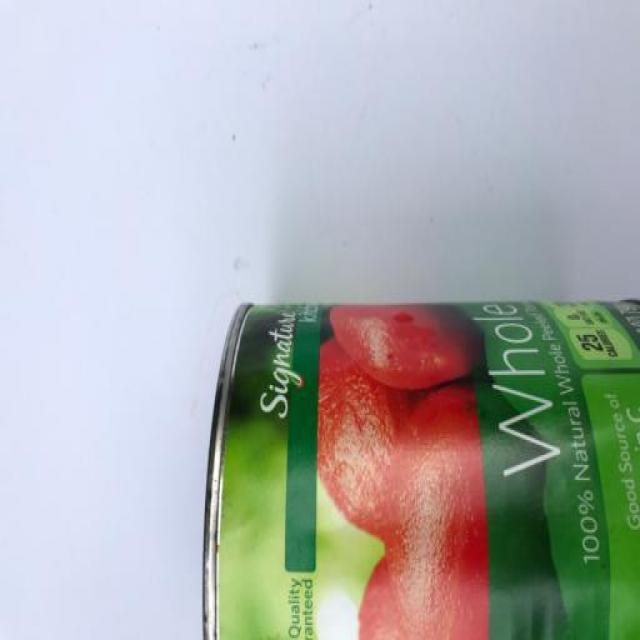metel: (201, 309, 640, 640)
